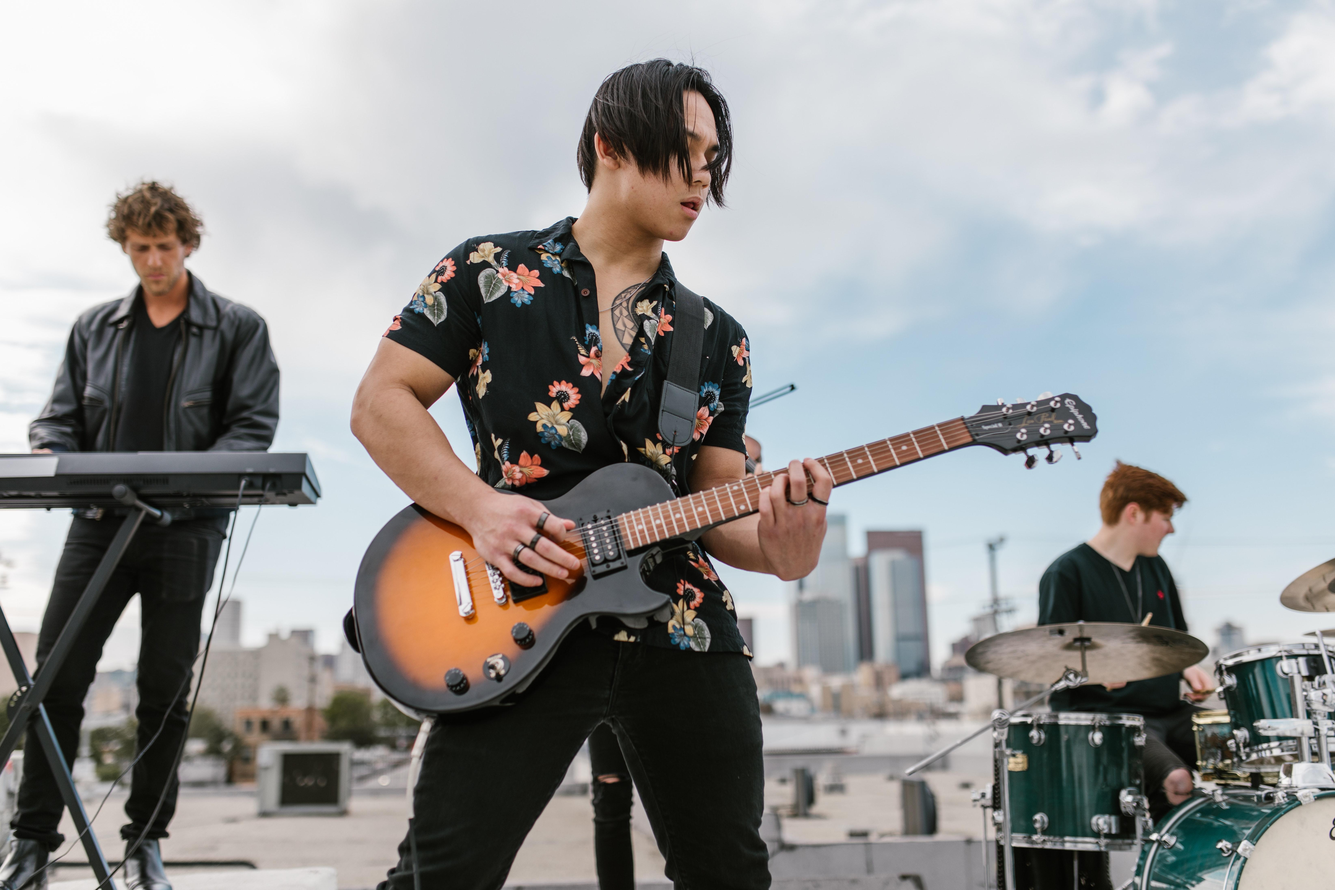acousticguitar: (354, 381, 1099, 724)
